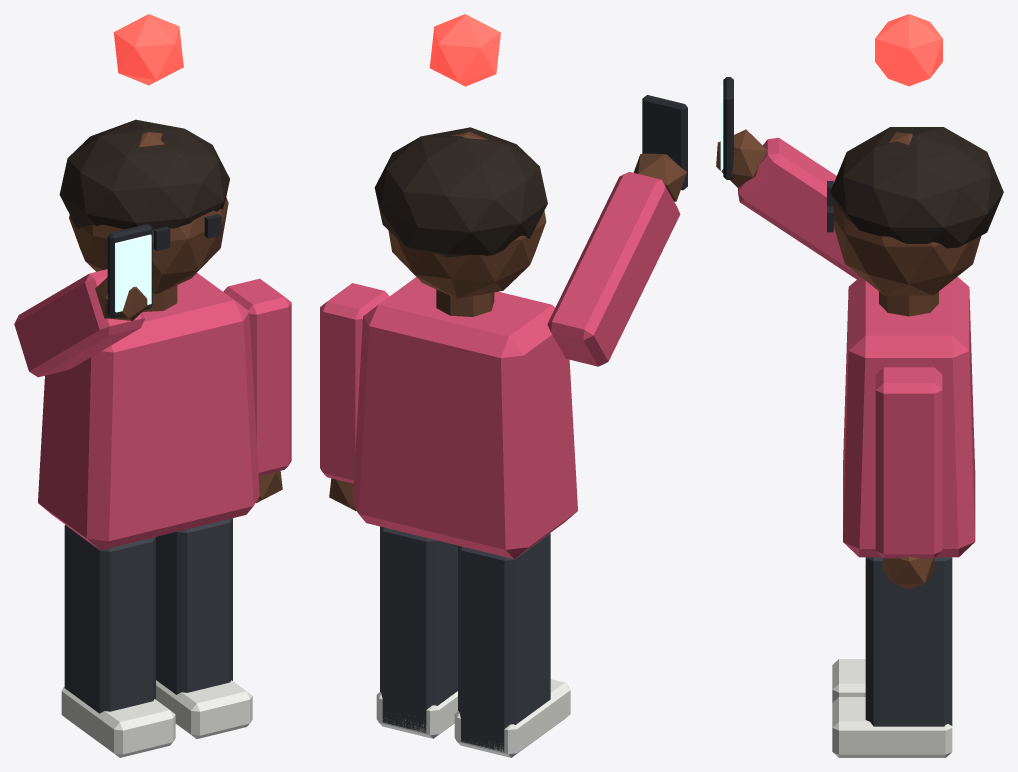
Rendered from chaser.glb.
The picture shows the model from 3 angles, left to right: view 1: azimuth 30°, elevation 25°; view 2: azimuth 150°, elevation 25°; view 3: azimuth 270°, elevation 25°; orthographic projection.
Parts seen in each view (by area): view 1: Body, LegR, LegL, ArmR, ArmL, Props; view 2: Body, LegR, ArmR, LegL, ArmL, Props; view 3: Body, LegL, ArmL, ArmR, Props, LegR.
Part boxes in pixels (x1=…): Body: x1=38, y1=119, x2=259, y2=550; LegR: x1=61, y1=524, x2=175, y2=757; LegL: x1=156, y1=518, x2=252, y2=738; ArmR: x1=14, y1=224, x2=152, y2=377; ArmL: x1=223, y1=278, x2=291, y2=502; Props: x1=113, y1=14, x2=183, y2=85; Body: x1=352, y1=127, x2=577, y2=558; LegR: x1=454, y1=533, x2=570, y2=757; ArmR: x1=547, y1=95, x2=687, y2=366; LegL: x1=376, y1=526, x2=457, y2=738; ArmL: x1=320, y1=283, x2=389, y2=510; Props: x1=429, y1=14, x2=500, y2=86; Body: x1=827, y1=127, x2=1003, y2=557; LegL: x1=832, y1=557, x2=952, y2=757; ArmL: x1=875, y1=367, x2=942, y2=589; ArmR: x1=716, y1=77, x2=860, y2=279; Props: x1=875, y1=14, x2=942, y2=86; LegR: x1=832, y1=659, x2=865, y2=702.
Bounding box in the file's own units: 0.376 × 0.9676 × 0.3541.
